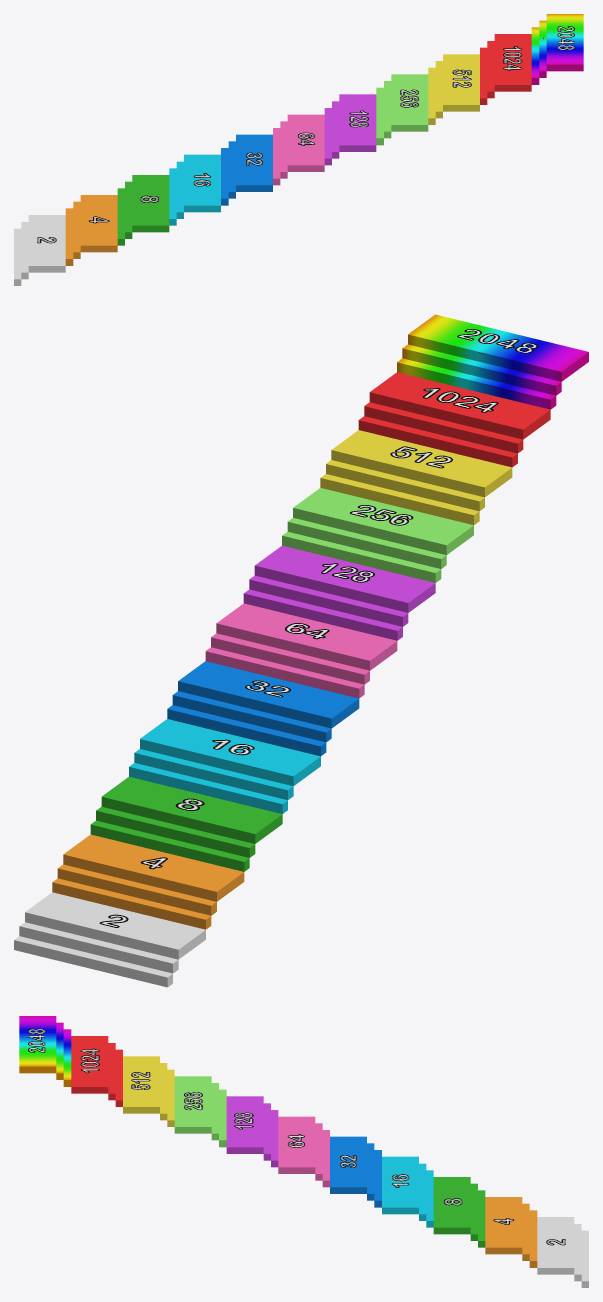
File: Stairs.fbx
3 renders of one model, top to bottom at view 1: azimuth 90°, elevation 25°; view 2: azimuth 150°, elevation 25°; view 3: azimuth 270°, elevation 25°, orthographic. The views are drawn at different scales.
Visible parts, largest first — view 1: Cube003, Cube (8), Cube (17)002, Cube (17)001, Cube (17), Cube001, Cube, Cube (8)002, Cube (8)001, Cube002, Cube004; view 2: Cube (8)002, Cube (8), Cube002, Cube (17), Cube (17)001, Cube (8)001, Cube004, Cube (17)002, Cube003, Cube, Cube001; view 3: Cube003, Cube (8), Cube (17)002, Cube (17)001, Cube (17), Cube001, Cube, Cube (8)002, Cube (8)001, Cube002, Cube004.
Boxes of the visible parts, left/top/right/bottom form: Cube003: left=376, top=74, right=428, bottom=145; Cube (8): left=65, top=195, right=117, bottom=265; Cube (17)002: left=531, top=14, right=583, bottom=84; Cube (17)001: left=324, top=94, right=376, bottom=165; Cube (17): left=117, top=175, right=169, bottom=245; Cube001: left=169, top=154, right=220, bottom=225; Cube: left=14, top=215, right=65, bottom=285; Cube (8)002: left=480, top=34, right=531, bottom=104; Cube (8)001: left=273, top=114, right=324, bottom=185; Cube002: left=221, top=134, right=272, bottom=205; Cube004: left=428, top=54, right=479, bottom=124; Cube (8)002: left=358, top=372, right=550, bottom=467; Cube (8): left=52, top=834, right=244, bottom=929; Cube002: left=167, top=661, right=359, bottom=756; Cube (17): left=90, top=777, right=282, bottom=871; Cube (17)001: left=243, top=545, right=435, bottom=640; Cube (8)001: left=205, top=603, right=397, bottom=698; Cube004: left=320, top=430, right=512, bottom=524; Cube (17)002: left=397, top=314, right=588, bottom=409; Cube003: left=282, top=488, right=473, bottom=582; Cube: left=14, top=892, right=205, bottom=987; Cube001: left=129, top=719, right=320, bottom=813; Cube003: left=174, top=1076, right=226, bottom=1147; Cube (8): left=485, top=1197, right=537, bottom=1267; Cube (17)002: left=19, top=1016, right=71, bottom=1086; Cube (17)001: left=226, top=1096, right=278, bottom=1167; Cube (17): left=433, top=1177, right=485, bottom=1247; Cube001: left=382, top=1156, right=433, bottom=1227; Cube: left=537, top=1217, right=588, bottom=1287; Cube (8)002: left=71, top=1036, right=122, bottom=1106; Cube (8)001: left=278, top=1116, right=329, bottom=1187; Cube002: left=330, top=1136, right=381, bottom=1207; Cube004: left=123, top=1056, right=174, bottom=1126.
Bounding box in the file's own units: 640 × 1306 × 3065.
2 materials, 2 textured.
